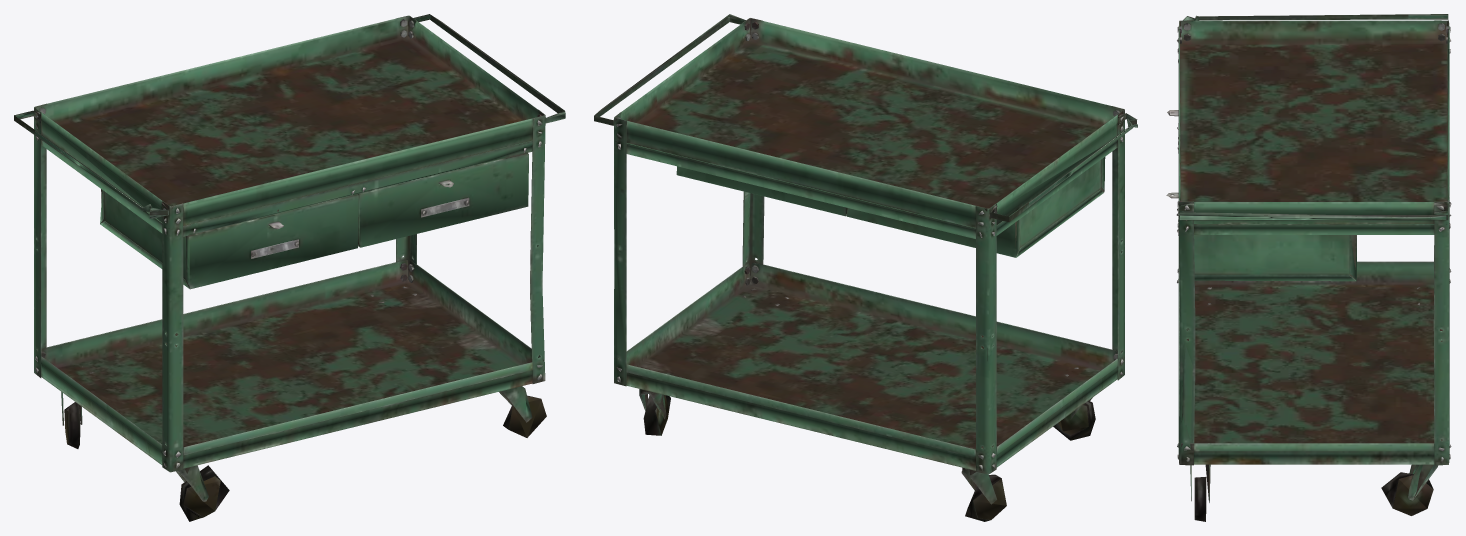
The model's file is tool_cart.glb.
3 views of the same model, side by side, from view 1: azimuth 30°, elevation 25°; view 2: azimuth 150°, elevation 25°; view 3: azimuth 270°, elevation 25° (orthographic).
Parts seen in each view (by area): view 1: tool_cart; view 2: tool_cart; view 3: tool_cart.
Part boxes in pixels (left/top/right/bottom): tool_cart: left=14, top=14, right=565, bottom=521; tool_cart: left=594, top=14, right=1137, bottom=521; tool_cart: left=1166, top=14, right=1451, bottom=521.
Size of the model in its own units: 1.26 by 0.9619 by 0.7521.
Materials: 1 (1 with a texture image).
